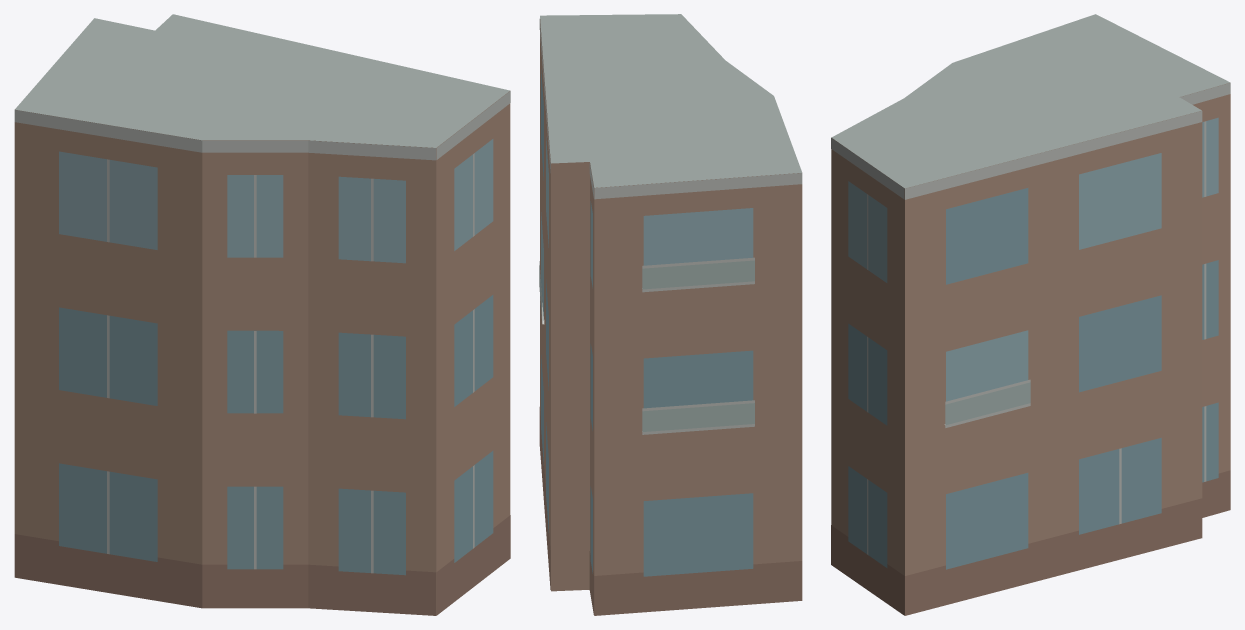
The model's file is survey-upis-32473039.glb.
3 renders of one model, left to right at view 1: azimuth 30°, elevation 25°; view 2: azimuth 150°, elevation 25°; view 3: azimuth 270°, elevation 25°, orthographic. The views are drawn at different scales.
Visible parts, largest first — view 1: survey-upis-32473039.tmp; view 2: survey-upis-32473039.tmp; view 3: survey-upis-32473039.tmp.
Part boxes in pixels (x1,y1,x2,y2): survey-upis-32473039.tmp: (14, 14, 510, 615); survey-upis-32473039.tmp: (539, 14, 802, 615); survey-upis-32473039.tmp: (831, 14, 1230, 615).
Size of the model in its own units: 8.02 by 9.15 by 7.76.
